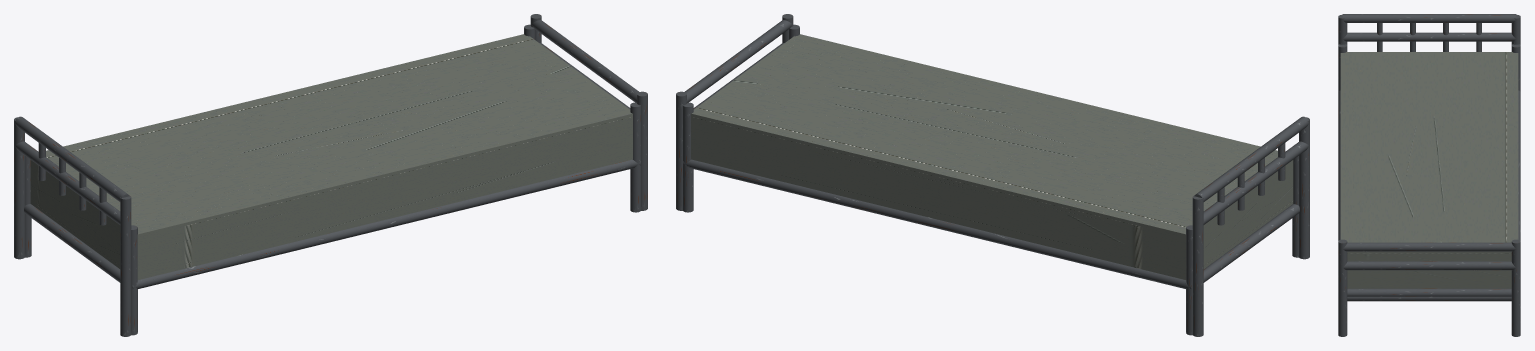
Rendered from bed_reference.glb.
3 views of the same model, side by side, from view 1: azimuth 30°, elevation 25°; view 2: azimuth 150°, elevation 25°; view 3: azimuth 270°, elevation 25° (orthographic). The views are drawn at different scales.
Parts seen in each view (by area): view 1: Mattress, SideRailRight, HeadPostRight, HeadTopRail, FootTopRail, HeadMidRail, HeadPostLeft, EndRailHeadLow, LegFootRight, FootPostRight, LegHeadRight, LegHeadLeft; view 2: Mattress, SideRailLeft, HeadPostLeft, HeadTopRail, FootTopRail, HeadMidRail, HeadPostRight, EndRailHeadLow, LegFootLeft, FootPostLeft, LegHeadLeft, LegHeadRight; view 3: Mattress, FootMidRail, FootTopRail, HeadMidRail, HeadTopRail, EndRailFootLow, FootLowerRail, FootPostLeft, FootPostRight, SideRailLeft, SideRailRight, HeadPostLeft (+3 smaller).
Part boxes in pixels (x1,y1,x2,y2): Mattress: (30,34,632,279); SideRailRight: (132,159,640,288); HeadPostRight: (120,196,131,336); HeadTopRail: (15,116,129,201); FootTopRail: (531,20,638,102); HeadMidRail: (15,141,120,224); HeadPostLeft: (14,117,24,259); EndRailHeadLow: (24,204,120,282); LegFootRight: (630,102,640,212); FootPostRight: (637,91,647,210); LegHeadRight: (131,225,137,335); LegHeadLeft: (25,156,31,257); Mattress: (691,34,1293,279); SideRailLeft: (683,159,1191,288); HeadPostLeft: (1192,196,1203,336); HeadTopRail: (1194,116,1308,201); FootTopRail: (685,20,792,102); HeadMidRail: (1203,141,1308,224); HeadPostRight: (1299,117,1309,259); EndRailHeadLow: (1203,204,1299,282); LegFootLeft: (683,102,693,212); FootPostLeft: (676,91,686,210); LegHeadLeft: (1186,225,1192,335); LegHeadRight: (1292,156,1298,257); Mattress: (1340,52,1518,288); FootMidRail: (1343,261,1515,270); FootTopRail: (1343,242,1515,251); HeadMidRail: (1343,32,1515,41); HeadTopRail: (1342,14,1516,22); EndRailFootLow: (1347,288,1511,296); FootLowerRail: (1347,296,1511,301); FootPostLeft: (1511,239,1520,336); FootPostRight: (1338,239,1347,336); SideRailLeft: (1518,90,1520,240); SideRailRight: (1338,90,1340,240); HeadPostLeft: (1511,14,1520,44).
Bounding box in the file's own units: 2.4 × 0.612 × 0.884.
Materials: 2 (2 with a texture image).
